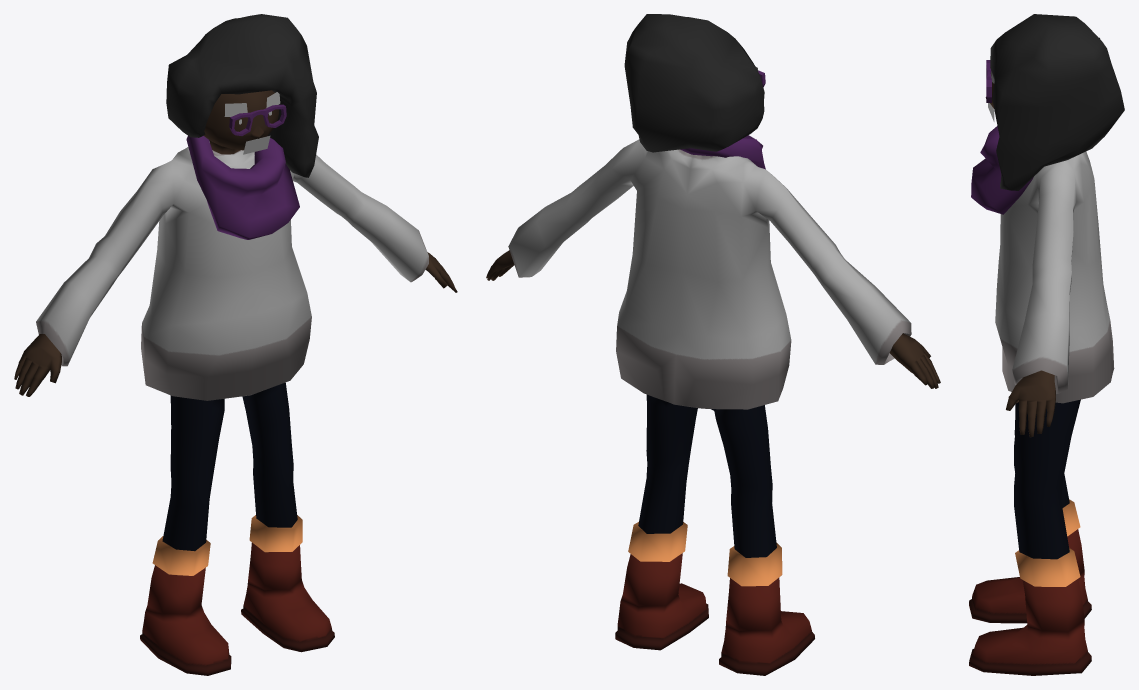
The model's file is girl1_noglasses_7.fbx.
3 views of the same model, side by side, from view 1: azimuth 30°, elevation 25°; view 2: azimuth 150°, elevation 25°; view 3: azimuth 270°, elevation 25° (orthographic). The views are drawn at different scales.
Visible parts, largest first — view 1: pTorus6; view 2: pTorus6; view 3: pTorus6.
Part boxes in pixels (x1,y1,x2,y2): pTorus6: (14, 14, 457, 675); pTorus6: (486, 14, 940, 675); pTorus6: (969, 14, 1124, 675).
Size of the model in its own units: 0.0116 by 0.0154 by 0.00346.
2 materials, 1 textured.
